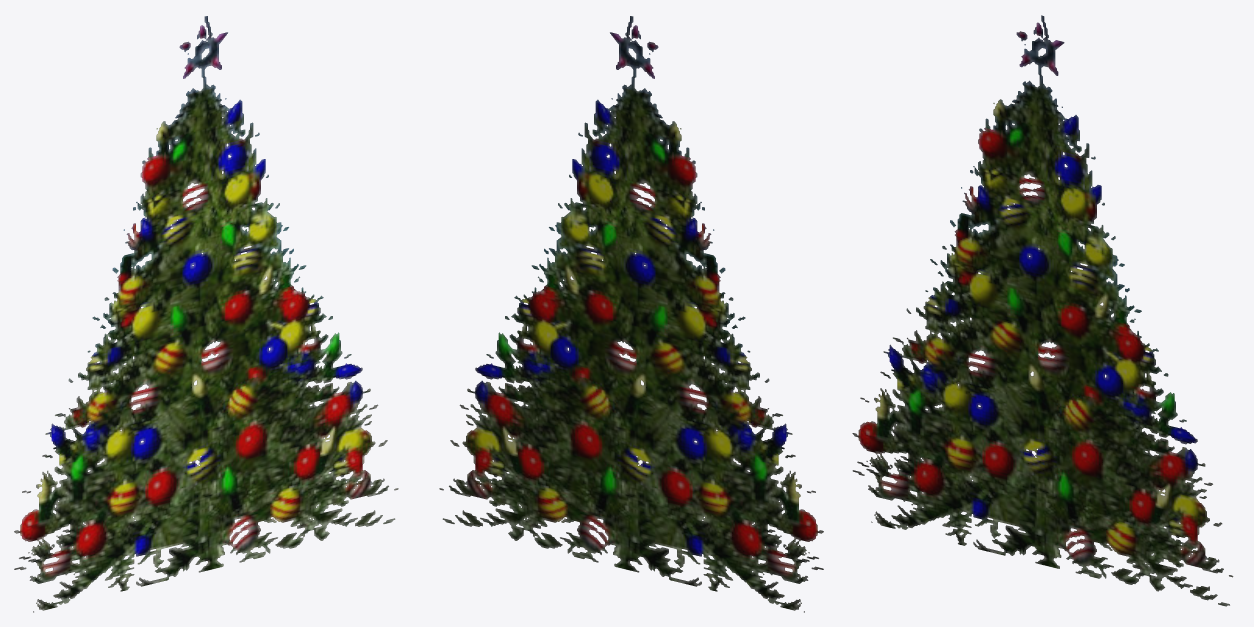
The model's file is christmasTree2.dae.
The picture shows the model from 3 angles, left to right: view 1: azimuth 30°, elevation 25°; view 2: azimuth 150°, elevation 25°; view 3: azimuth 330°, elevation 25°; orthographic projection.
Visible parts, largest first — view 1: SketchUp; view 2: SketchUp; view 3: SketchUp.
Part boxes in pixels (x1,y1,x2,y2): SketchUp: (14,16,398,612); SketchUp: (439,16,823,612); SketchUp: (852,15,1233,606).
Size of the model in its own units: 68.93 by 0 by 93.52.
1 material, 1 textured.
